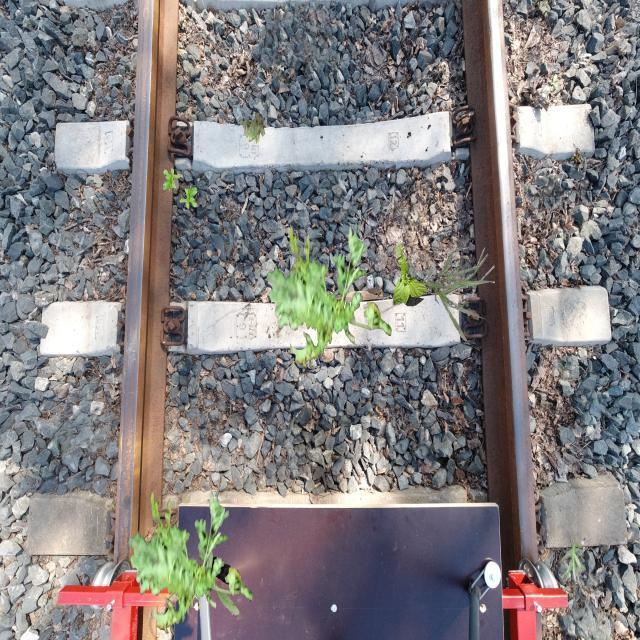Plant: (267, 223, 392, 370), (128, 489, 253, 636), (422, 247, 495, 340), (168, 541, 240, 616), (393, 244, 428, 306), (560, 542, 586, 584), (240, 112, 266, 144), (180, 186, 198, 210), (163, 168, 180, 192)
